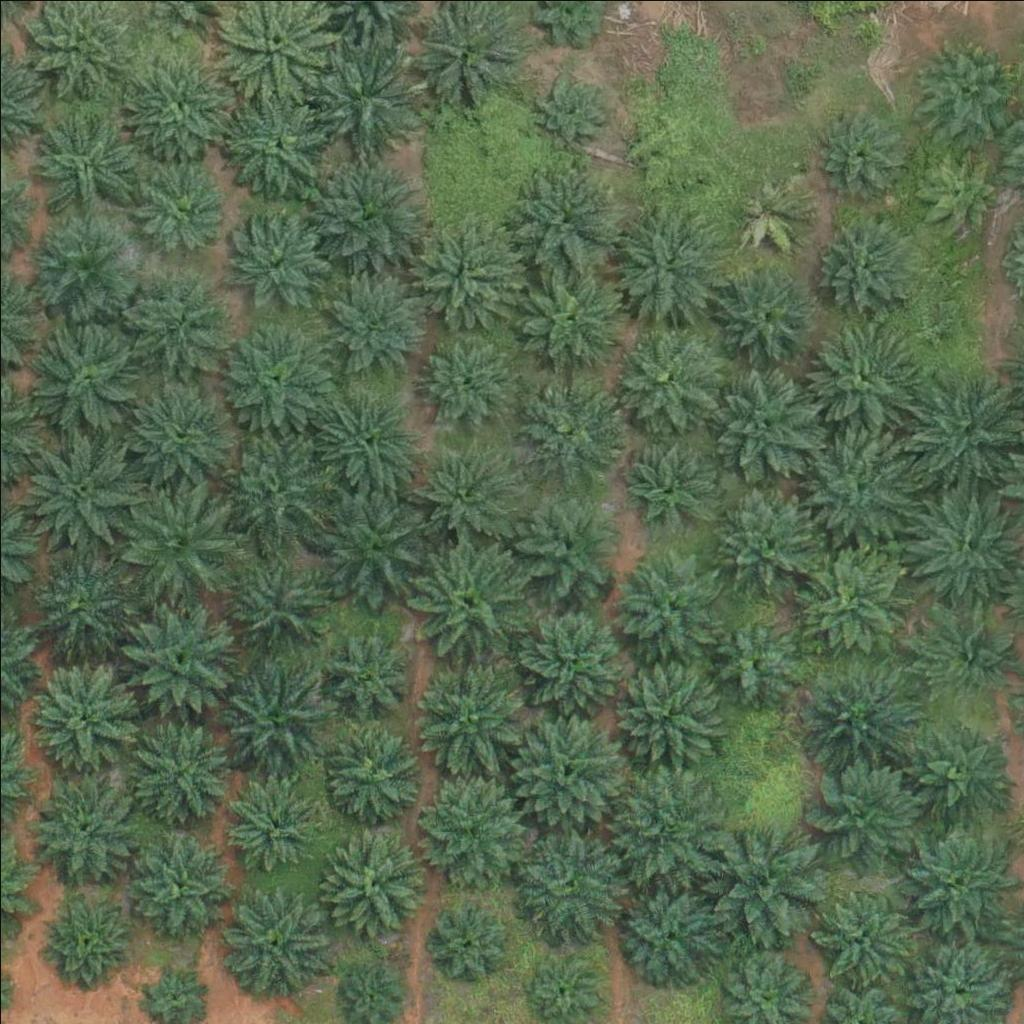Kelapa_Sawit: (895, 821, 1020, 947), (800, 751, 925, 877), (703, 818, 828, 944), (600, 759, 725, 885), (506, 594, 631, 720), (405, 652, 530, 778), (406, 537, 531, 663), (310, 481, 435, 607), (214, 661, 339, 787), (215, 542, 340, 668), (215, 426, 340, 552), (114, 592, 239, 718), (116, 474, 241, 600), (19, 426, 144, 552), (23, 312, 148, 438), (116, 372, 241, 498), (213, 315, 338, 441), (300, 33, 425, 159), (18, 650, 143, 775), (606, 653, 719, 767), (307, 163, 420, 277), (514, 368, 627, 482), (908, 484, 1021, 597), (608, 549, 721, 662), (615, 431, 728, 544), (514, 483, 627, 596), (414, 772, 527, 885), (28, 103, 141, 216), (404, 209, 517, 322), (514, 260, 627, 373), (510, 159, 623, 272), (806, 324, 919, 437), (810, 211, 923, 324), (512, 715, 624, 829), (407, 436, 519, 550), (123, 50, 235, 164), (221, 196, 333, 310), (220, 89, 332, 203), (899, 712, 1011, 825), (800, 659, 912, 772), (795, 540, 907, 653), (802, 430, 914, 543), (714, 485, 826, 598), (517, 831, 629, 944), (610, 320, 722, 433), (611, 206, 723, 319), (710, 369, 822, 482), (322, 834, 422, 935), (323, 719, 423, 820), (220, 893, 320, 994), (226, 772, 326, 873), (129, 836, 229, 937), (129, 724, 229, 825), (34, 779, 134, 880), (26, 552, 126, 653), (32, 216, 132, 317), (123, 273, 223, 374), (812, 103, 912, 204), (907, 143, 1007, 244), (811, 887, 911, 987), (621, 881, 721, 981), (316, 624, 416, 724), (317, 393, 417, 493), (326, 272, 426, 372), (419, 326, 519, 426), (916, 45, 1016, 145), (726, 166, 814, 255), (709, 618, 797, 706), (719, 266, 807, 354), (36, 896, 123, 984), (135, 165, 222, 253), (525, 947, 600, 1023), (428, 904, 503, 979), (532, 71, 607, 146)
